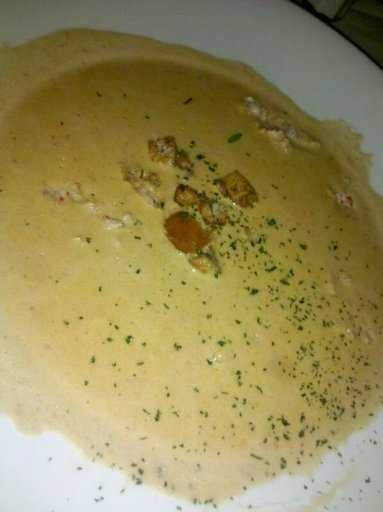soup: (1, 43, 371, 471)
